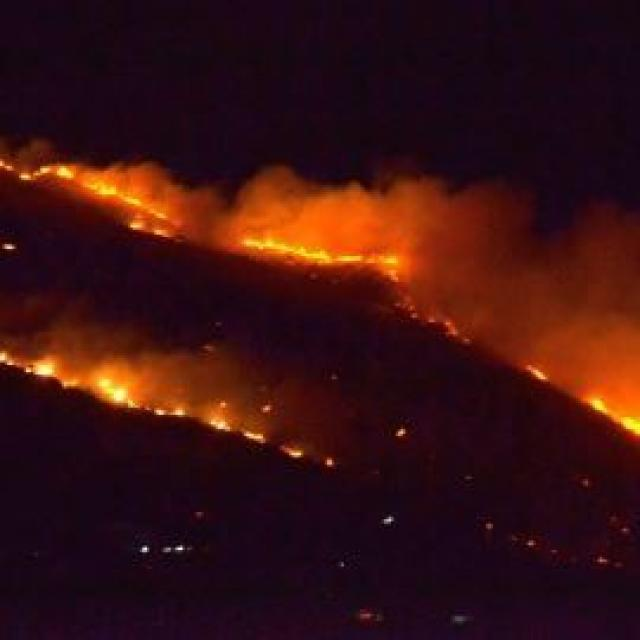Fire: (246, 224, 417, 281), (8, 349, 156, 414), (81, 174, 192, 242), (583, 390, 640, 445), (0, 153, 83, 185), (206, 408, 237, 441), (236, 422, 270, 449), (276, 442, 310, 468), (522, 352, 548, 382), (152, 400, 186, 420)
Smoke: (455, 225, 640, 377), (241, 182, 535, 273), (109, 160, 232, 248)
